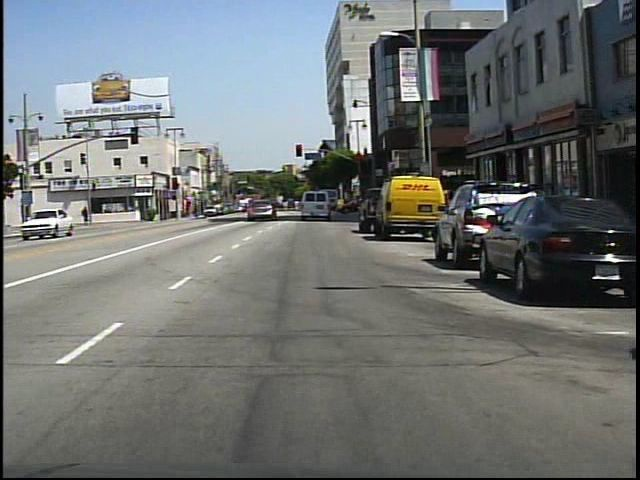person: (254, 192, 271, 222), (83, 205, 90, 225)
